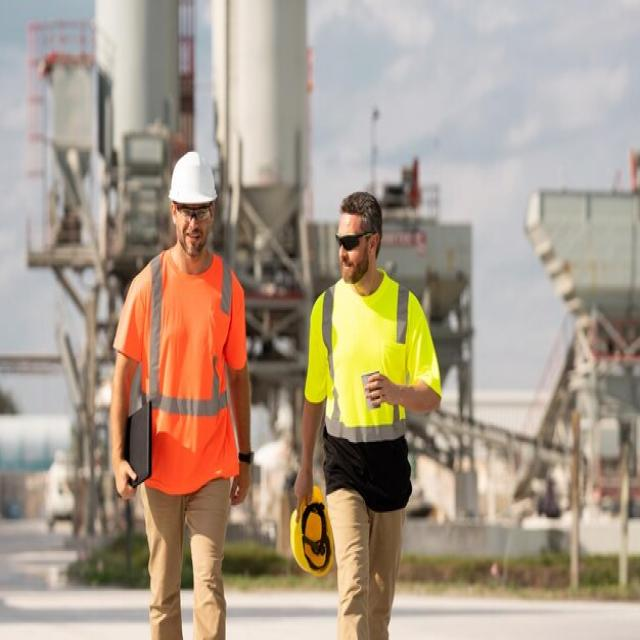secure person: (118, 152, 247, 640)
unsecured person: (300, 192, 442, 640)
